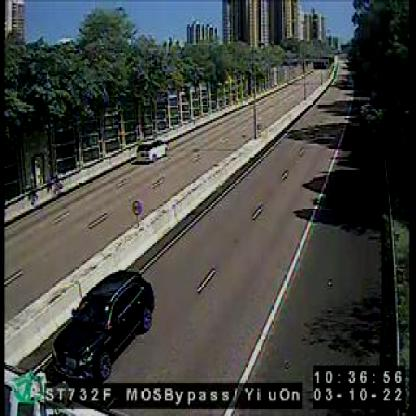Car: (52, 268, 153, 380), (137, 139, 169, 163)
